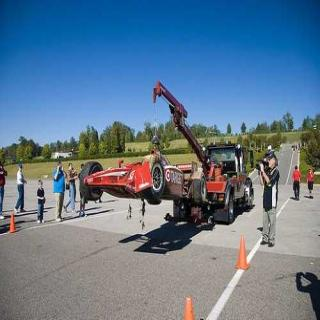Towing_truck: (151, 78, 254, 226)
